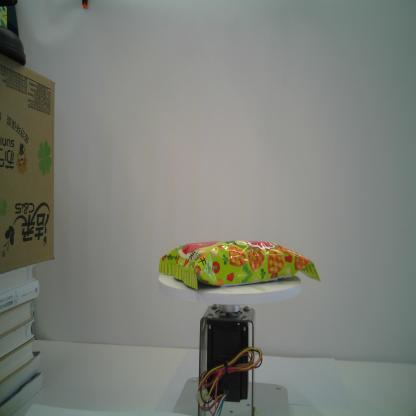Puffed Food: (158, 239, 322, 291)
